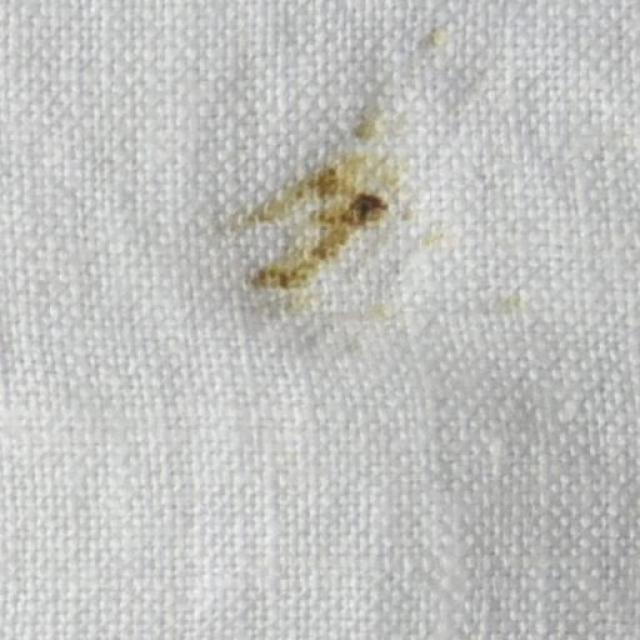Stain: (188, 48, 418, 300)
